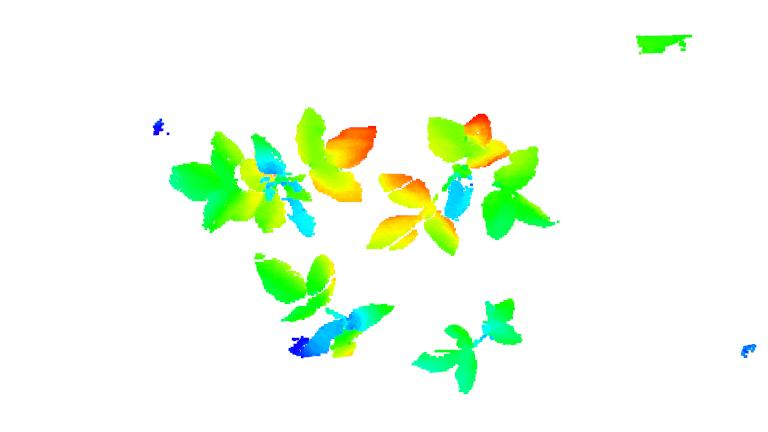mungbean: (166, 104, 372, 243), (367, 111, 559, 258), (249, 248, 399, 362), (408, 296, 526, 395)
